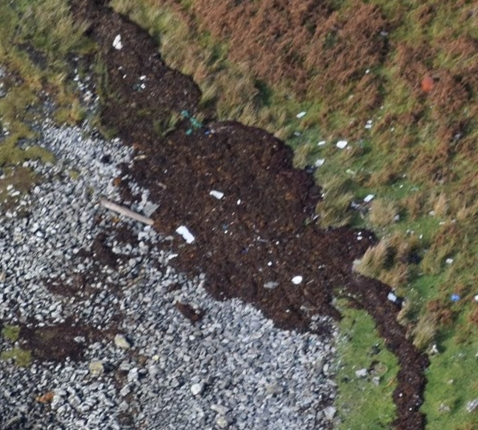scattered_barrel: (172, 182, 312, 286)
straight_bar: (94, 190, 158, 229)
white_in_green: (91, 19, 144, 64)
